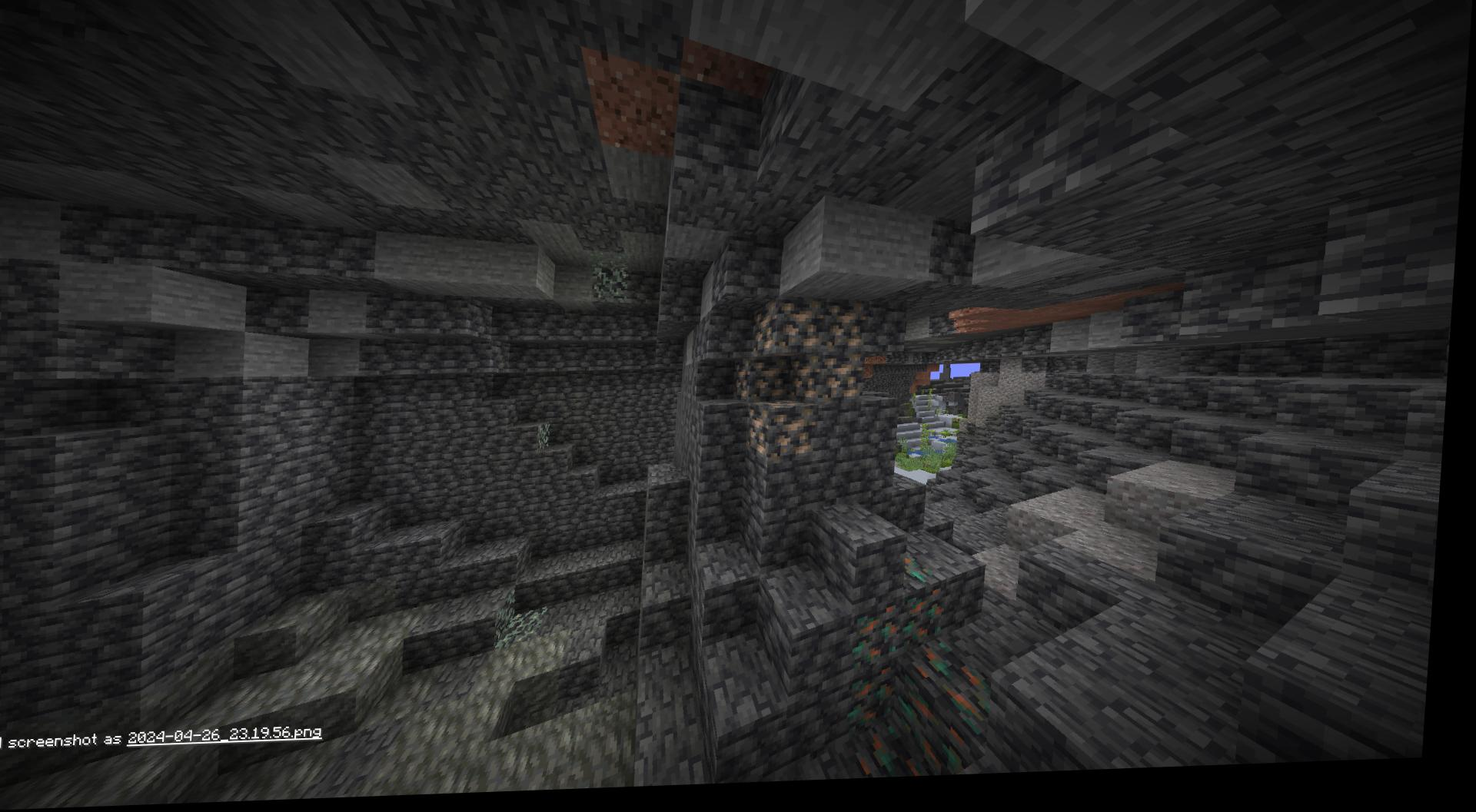iron ore: (776, 410, 826, 464), (825, 302, 870, 361), (781, 307, 827, 358), (827, 359, 872, 409), (741, 364, 791, 408), (791, 358, 830, 411), (752, 411, 778, 462), (755, 311, 782, 360)
